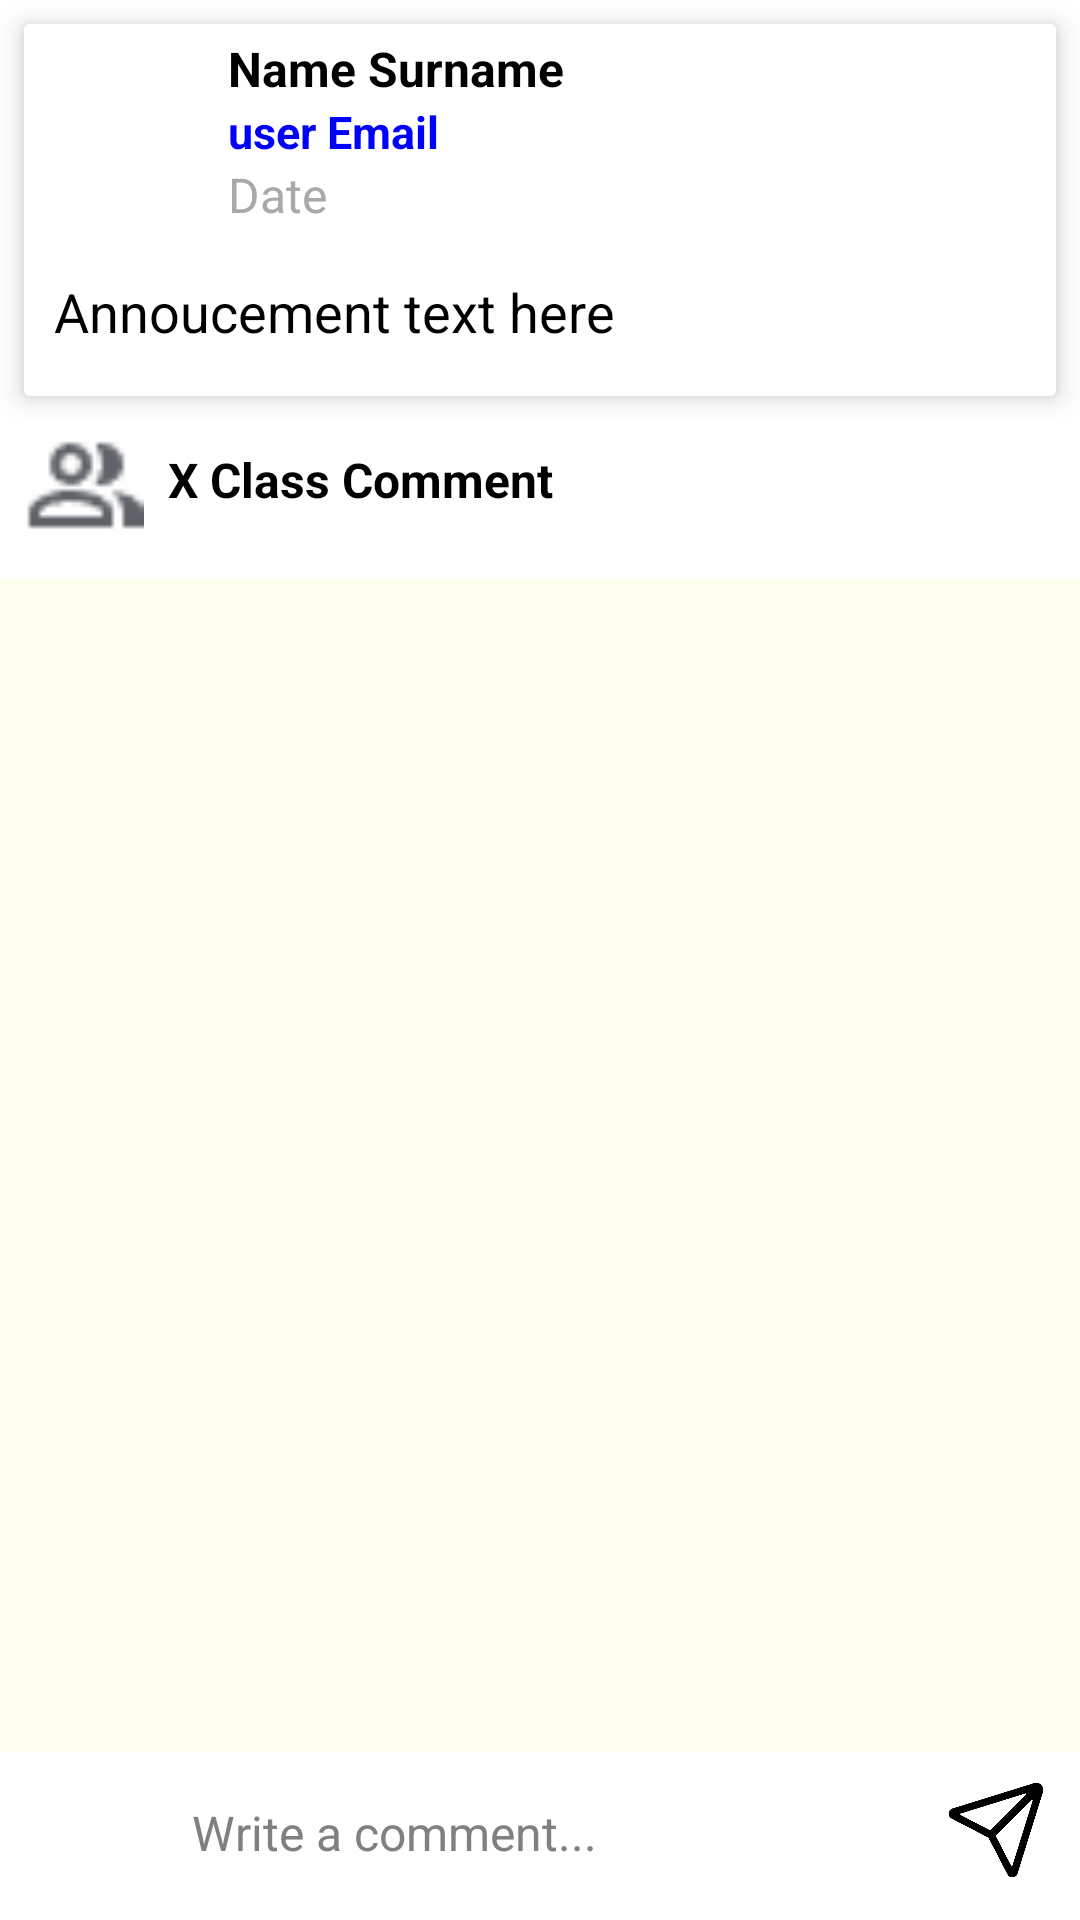

Where to tap for icons on this 1080px x 1920px app screen, as point (x, y):
sendcomment: point (996, 1830)
